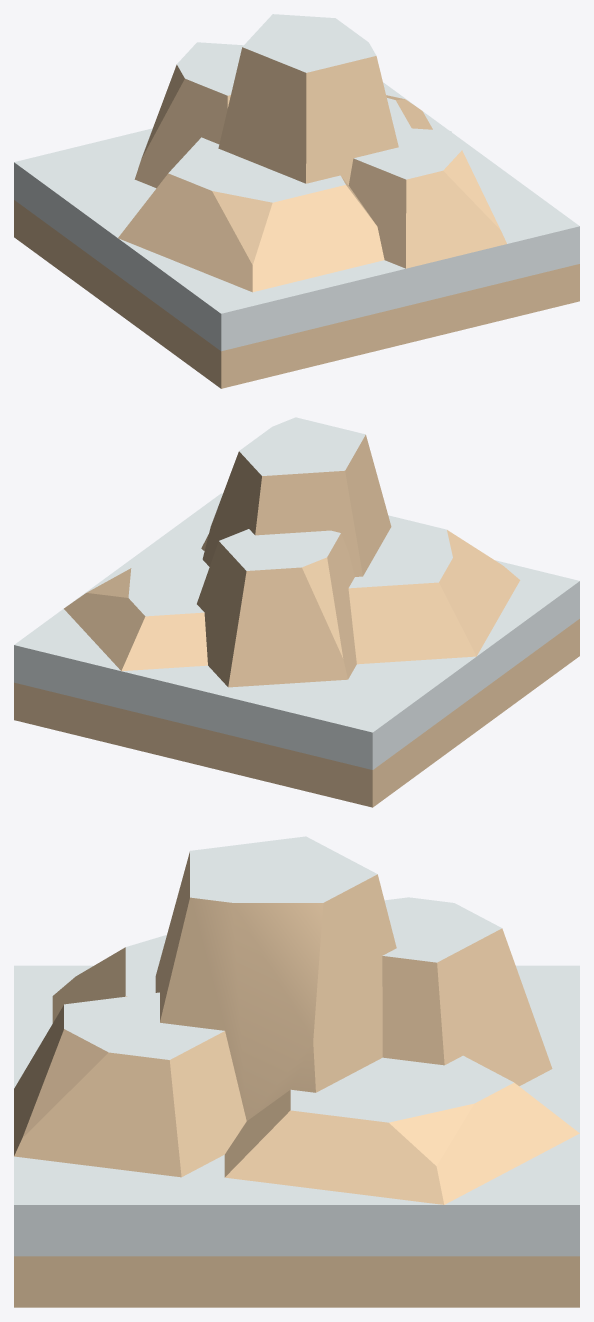
The model's file is snow_tile_rock.glb.
The picture shows the model from 3 angles, top to bottom: view 1: azimuth 30°, elevation 25°; view 2: azimuth 150°, elevation 25°; view 3: azimuth 270°, elevation 25°; orthographic projection. The views are drawn at different scales.
Visible parts, largest first — view 1: rocks, snow_tile_rock; view 2: rocks, snow_tile_rock; view 3: rocks, snow_tile_rock.
Boxes of the visible parts, box(x1,y1,x2,y2) form: rocks: box(118, 14, 506, 292); snow_tile_rock: box(14, 82, 579, 388); rocks: box(64, 417, 520, 687); snow_tile_rock: box(14, 493, 579, 807); rocks: box(14, 836, 579, 1204); snow_tile_rock: box(14, 965, 579, 1307).
Size of the model in its own units: 1 by 0.6186 by 1.
